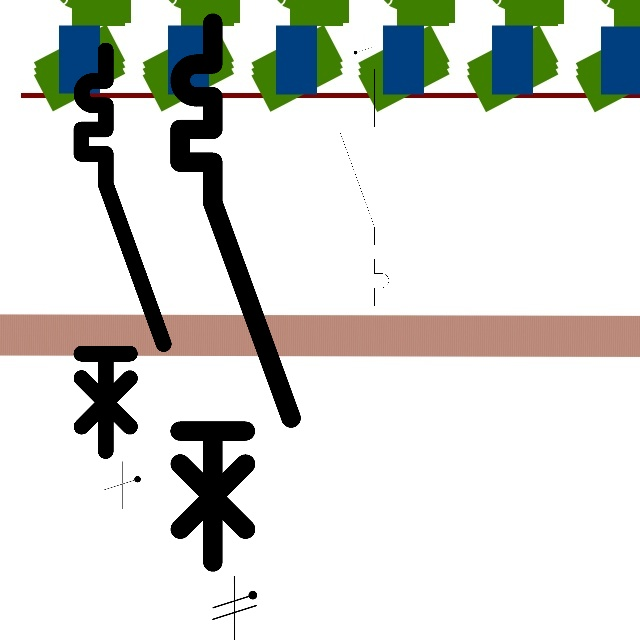interruptor_termomagnetico: (166, 9, 304, 575), (71, 40, 174, 461), (334, 63, 395, 311)
